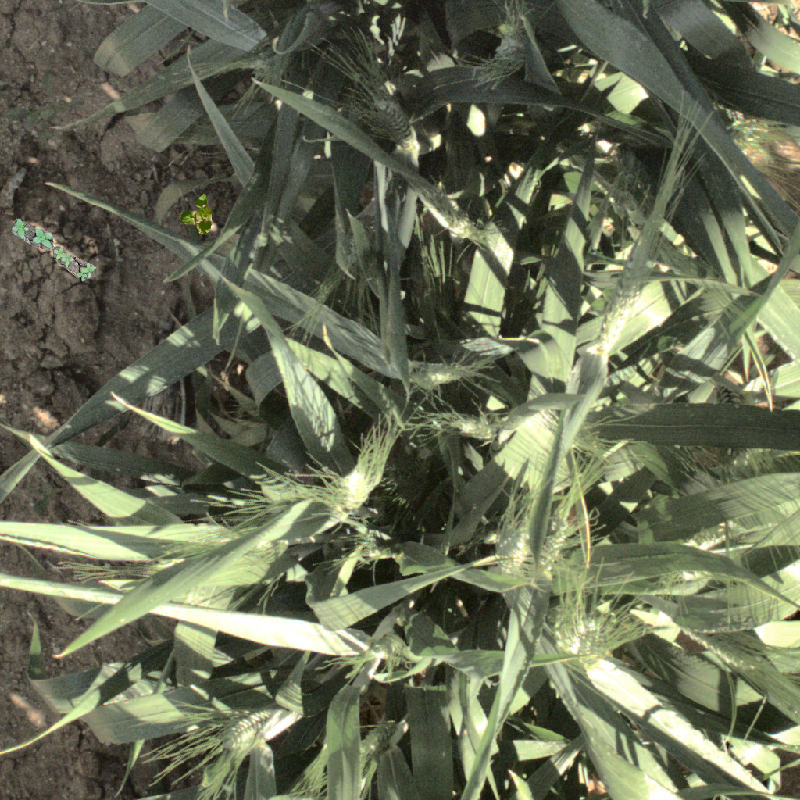spikelet: (592, 236, 646, 365), (583, 655, 659, 716), (220, 706, 273, 749), (368, 96, 412, 142), (332, 466, 374, 513), (557, 615, 601, 656), (537, 519, 573, 569), (494, 526, 532, 572), (493, 25, 529, 65)
weed: (8, 214, 61, 257), (47, 244, 99, 284), (180, 194, 212, 234)
